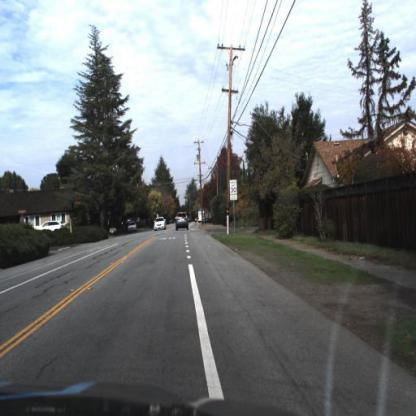car: (34, 218, 64, 236), (172, 207, 190, 235), (122, 214, 137, 236), (152, 215, 167, 233), (196, 206, 204, 223)
